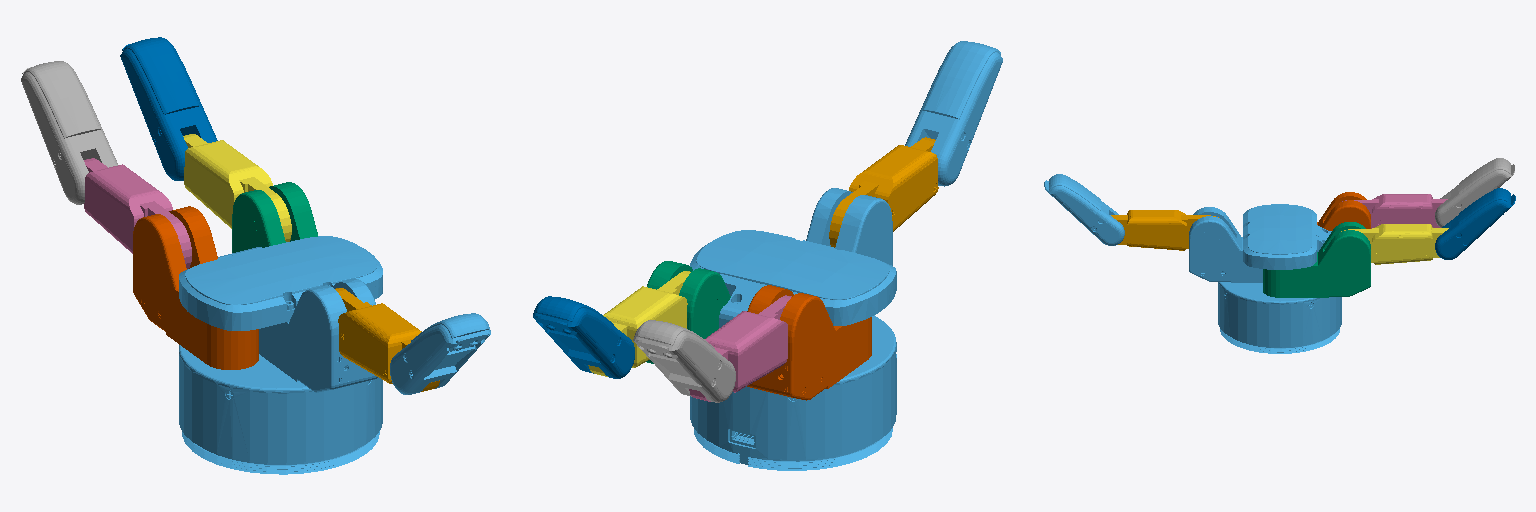
The robot description file, URDF, robot "bhand_model":
<?xml version='1.0' encoding='utf-8'?>
<robot name="bhand_model">
  <link name="hand_root" />
  <joint name="hand_root_joint" type="fixed">
    <origin rpy="0 0 0" xyz="0 0 0" />
    <parent link="hand_root" />
    <child link="base_link" />
  </joint>
  <mujoco>
    <compiler balanceinertia="true" discardvisual="false" fusestatic="false" inertiafromgeom="false" />
  </mujoco>
  <link name="base_link">
    <inertial>
      <origin xyz="-1.53444878605399E-05 -0.00277693660903533 0.0352882290973172" rpy="0 0 0" />
      <mass value="0.377966381303299" />
      <inertia ixx="0.000427326373018601" ixy="2.6443337984506E-07" ixz="-2.02908063714989E-07" iyy="0.000361316175967098" iyz="-3.0792687327603E-05" izz="0.000376798128588446" />
    </inertial>
    <visual name="base_link_base_link_visual">
      <origin xyz="0 0 0" rpy="0 0 0" />
      <geometry>
        <mesh filename="meshes/visual/base_link.obj" />
      </geometry>
    </visual>
    <collision>
      <origin xyz="0 0 0" rpy="0 0 0" />
      <geometry>
        <mesh filename="meshes/collision/base_link_cylinder_collision000.obj" />
      </geometry>
    </collision>
    <collision>
      <origin xyz="0 -0.011 0.054" rpy="0 0 0" />
      <geometry>
        <box size="0.026 0.108 0.026" />
      </geometry>
    </collision>
    <collision>
      <origin xyz="0 0 0.072" rpy="0 0 0" />
      <geometry>
        <box size="0.076 0.046 0.014" />
      </geometry>
    </collision>
    <collision>
      <origin xyz="0 0.032 0.068" rpy="-0.39 0 0" />
      <geometry>
        <box size="0.026 0.02 0.01" />
      </geometry>
    </collision>
    <collision>
      <origin xyz="0 -0.035 0.07" rpy="-1.03 0 0" />
      <geometry>
        <box size="0.026 0.02 0.01" />
      </geometry>
    </collision>
  </link>
  <link name="finger_1_prox_link">
    <inertial>
      <origin xyz="-0.288648917008988 9.98379746692153E-04 0.171253477569802" rpy="0 0 0" />
      <mass value="56143.0626955765E-5" />
      <inertia ixx="10.4484040652085E-5" ixy="-0.117861448219975E-5" ixz="-5.31613760585343E-5" iyy="33.9552353012776E-5" iyz="0.0780041192837706E-5" izz="29.3669090518615E-5" />
    </inertial>
    <visual name="finger_1_prox_link_prox_link_visual">
      <origin xyz="0 0 0" rpy="0 0 0" />
      <geometry>
        <mesh filename="meshes/visual/prox_link.obj" />
      </geometry>
    </visual>
    <collision>
      <origin xyz="0 0 0" rpy="0 0 0" />
      <geometry>
        <mesh filename="meshes/collision/prox_link_cylinder_collision000.obj" />
      </geometry>
    </collision>
    <collision>
      <origin xyz="-0.029 0 0.012" rpy="0 0 0" />
      <geometry>
        <box size="0.07 0.024 0.026" />
      </geometry>
    </collision>
    <collision>
      <origin xyz="-0.036 0 0.03" rpy="0 1.029 0" />
      <geometry>
        <box size="0.02 0.026 0.01" />
      </geometry>
    </collision>
  </link>
  <joint name="finger_1_prox_joint" type="revolute">
    <origin xyz="0.025 0 0.0415" rpy="0 2.7051E-17 -1.5708" />
    <parent link="base_link" />
    <child link="finger_1_prox_link" />
    <axis xyz="0 0 1" />
    <limit lower="-3.14" upper="0" effort="0" velocity="10" />
  </joint>
  <link name="finger_1_med_liink">
    <inertial>
      <origin xyz="-0.030918176135544 0.0019693024932544 0.000743369842666108" rpy="0 0 0" />
      <mass value="31321.1214212939E-5" />
      <inertia ixx="2.18512832127284E-5" ixy="-0.844484268309696E-5" ixz="0.0135401272401385E-5" iyy="17.3596441998536E-5" iyz="-0.001126692167519E-5" izz="17.7656644395659E-5" />
    </inertial>
    <visual name="finger_1_med_liink_med_link_visual">
      <origin xyz="0 0 0" rpy="0 0 0" />
      <geometry>
        <mesh filename="meshes/visual/med_link.obj" />
      </geometry>
    </visual>
    <collision>
      <origin xyz="-0.04 0.003 0.001" rpy="0 0 0" />
      <geometry>
        <box size="0.036 0.024 0.018" />
      </geometry>
    </collision>
    <collision>
      <origin xyz="-0.006 0.001 0.001" rpy="0 0 0" />
      <geometry>
        <box size="0.032 0.022 0.01" />
      </geometry>
    </collision>
    <collision>
      <origin xyz="-0.068 0.003 0.001" rpy="0 0 0" />
      <geometry>
        <box size="0.02 0.022 0.01" />
      </geometry>
    </collision>
    <collision>
      <origin xyz="-0.019 0.001 0.001" rpy="0 0 0" />
      <geometry>
        <box size="0.008 0.022 0.018" />
      </geometry>
    </collision>
  </link>
  <joint name="finger_1_med_joint" type="revolute">
    <origin xyz="-0.05 0 0.0339" rpy="1.5708 -8.8281E-17 0" />
    <parent link="finger_1_prox_link" />
    <child link="finger_1_med_liink" />
    <axis xyz="0 0 1" />
    <limit lower="-2.44" upper="0" effort="0" velocity="10" />
  </joint>
  <link name="finger_1_dist_link">
    <inertial>
      <origin xyz="-0.018331495851456 0.017563370050582 0.000497127783315291" rpy="0 0 0" />
      <mass value="19342.3312257343E-5" />
      <inertia ixx="3.67466110522623E-5" ixy="-2.57800680786605E-5" ixz="-0.0345727635031181E-5" iyy="4.08727012680705E-5" iyz="0.0329223427372985E-5" izz="5.99395386650428E-5" />
    </inertial>
    <visual name="finger_1_dist_link_dist_link_visual">
      <origin xyz="0 0 0" rpy="0 0 0" />
      <geometry>
        <mesh filename="meshes/visual/dist_link.obj" />
      </geometry>
    </visual>
    <collision>
      <origin xyz="-0.022 0.023 0" rpy="0 0 0.8988" />
      <geometry>
        <box size="0.014 0.038 0.02" />
      </geometry>
    </collision>
    <collision>
      <origin xyz="-0.002 0.002 0" rpy="0 0 0.7766" />
      <geometry>
        <box size="0.018 0.022 0.02" />
      </geometry>
    </collision>
    <collision>
      <origin xyz="-0.038 0.034 0" rpy="0 0 1.614" />
      <geometry>
        <box size="0.012 0.012 0.02" />
      </geometry>
    </collision>
  </link>
  <joint name="finger_1_dist_joint" type="revolute">
    <origin xyz="-0.069936 0.003 0" rpy="1.6787E-18 -3.6382E-15 -6.1073E-33" />
    <parent link="finger_1_med_liink" />
    <child link="finger_1_dist_link" />
    <axis xyz="0 0 1" />
    <limit lower="-0.785" upper="0" effort="0" velocity="10" />
  </joint>
  <link name="finger_2_prox_link">
    <inertial>
      <origin xyz="-0.288648917008987 9.98379746692118E-04 0.171253477569802" rpy="0 0 0" />
      <mass value="56143.0626955765E-5" />
      <inertia ixx="10.4484040652085E-5" ixy="-0.117861448219975E-5" ixz="-5.31613760585343E-5" iyy="33.9552353012776E-5" iyz="0.0780041192837701E-5" izz="29.3669090518615E-5" />
    </inertial>
    <visual name="finger_2_prox_link_prox_link_visual">
      <origin xyz="0 0 0" rpy="0 0 0" />
      <geometry>
        <mesh filename="meshes/visual/prox_link.obj" />
      </geometry>
    </visual>
    <collision>
      <origin xyz="0 0 0" rpy="0 0 0" />
      <geometry>
        <mesh filename="meshes/collision/prox_link_cylinder_collision000.obj" />
      </geometry>
    </collision>
    <collision>
      <origin xyz="-0.029 0 0.012" rpy="0 0 0" />
      <geometry>
        <box size="0.07 0.024 0.026" />
      </geometry>
    </collision>
    <collision>
      <origin xyz="-0.036 0 0.03" rpy="0 1.029 0" />
      <geometry>
        <box size="0.02 0.026 0.01" />
      </geometry>
    </collision>
  </link>
  <joint name="finger_2_prox_joint" type="revolute">
    <origin xyz="-0.025 0 0.0415" rpy="0 2.7051E-17 -1.5708" />
    <parent link="base_link" />
    <child link="finger_2_prox_link" />
    <axis xyz="0 0 1" />
    <limit lower="0" upper="3.14" effort="0" velocity="10" />
  </joint>
  <link name="finger_2_med_link">
    <inertial>
      <origin xyz="-0.0309061378225848 0.00214997948654991 0.000743369814045599" rpy="0 0 0" />
      <mass value="31321.1215499126E-5" />
      <inertia ixx="2.19551825824831E-5" ixy="-0.933117181988174E-5" ixz="0.0135333166873642E-5" iyy="17.3492542935561E-5" iyz="-0.00120585854514789E-5" izz="17.7656644132238E-5" />
    </inertial>
    <visual name="finger_2_med_link_med_link_visual">
      <origin xyz="0 0 0" rpy="0 0 0" />
      <geometry>
        <mesh filename="meshes/visual/med_link.obj" />
      </geometry>
    </visual>
    <collision>
      <origin xyz="-0.04 0.003 0.001" rpy="0 0 0" />
      <geometry>
        <box size="0.036 0.024 0.018" />
      </geometry>
    </collision>
    <collision>
      <origin xyz="-0.006 0.001 0.001" rpy="0 0 0" />
      <geometry>
        <box size="0.032 0.022 0.01" />
      </geometry>
    </collision>
    <collision>
      <origin xyz="-0.068 0.003 0.001" rpy="0 0 0" />
      <geometry>
        <box size="0.02 0.022 0.01" />
      </geometry>
    </collision>
    <collision>
      <origin xyz="-0.019 0.001 0.001" rpy="0 0 0" />
      <geometry>
        <box size="0.008 0.022 0.018" />
      </geometry>
    </collision>
  </link>
  <joint name="finger_2_med_joint" type="revolute">
    <origin xyz="-0.05 0 0.0339" rpy="1.5708 -8.8281E-17 0" />
    <parent link="finger_2_prox_link" />
    <child link="finger_2_med_link" />
    <axis xyz="0 0 1" />
    <limit lower="-2.44" upper="0" effort="0" velocity="10" />
  </joint>
  <link name="finger_2_dist_link">
    <inertial>
      <origin xyz="-0.0181940669984822 0.017705695005231 0.000497127783261171" rpy="0 0 0" />
      <mass value="19342.3313295693E-5" />
      <inertia ixx="3.71486604025429E-5" ixy="-2.58090906930852E-5" ixz="-0.0343151446338957E-5" iyy="4.04706522522361E-5" iyz="0.0331907761165059E-5" izz="5.99395390717116E-5" />
    </inertial>
    <visual name="finger_2_dist_link_dist_link_visual">
      <origin xyz="0 0 0" rpy="0 0 0" />
      <geometry>
        <mesh filename="meshes/visual/dist_link.obj" />
      </geometry>
    </visual>
    <collision>
      <origin xyz="-0.022 0.023 0" rpy="0 0 0.8988" />
      <geometry>
        <box size="0.014 0.038 0.02" />
      </geometry>
    </collision>
    <collision>
      <origin xyz="-0.002 0.002 0" rpy="0 0 0.7766" />
      <geometry>
        <box size="0.018 0.022 0.02" />
      </geometry>
    </collision>
    <collision>
      <origin xyz="-0.038 0.034 0" rpy="0 0 1.614" />
      <geometry>
        <box size="0.012 0.012 0.02" />
      </geometry>
    </collision>
  </link>
  <joint name="finger_2_dist_joint" type="revolute">
    <origin xyz="-0.069917 0.0034087 0" rpy="-3.1382E-17 -2.3229E-16 0" />
    <parent link="finger_2_med_link" />
    <child link="finger_2_dist_link" />
    <axis xyz="0 0 1" />
    <limit lower="-0.785" upper="0" effort="0" velocity="10" />
  </joint>
  <link name="finger_3_med_link">
    <inertial>
      <origin xyz="-0.0309181761355441 0.00196930249325443 0.000743369842666415" rpy="0 0 0" />
      <mass value="31321.121421294E-5" />
      <inertia ixx="2.18512832127284E-5" ixy="-0.844484268309696E-5" ixz="0.0135401272400822E-5" iyy="17.3596441998537E-5" iyz="-0.0011266921675151E-5" izz="17.7656644395659E-5" />
    </inertial>
    <visual name="finger_3_med_link_med_link_visual">
      <origin xyz="0 0 0" rpy="0 0 0" />
      <geometry>
        <mesh filename="meshes/visual/med_link.obj" />
      </geometry>
    </visual>
    <collision>
      <origin xyz="-0.04 0.003 0.001" rpy="0 0 0" />
      <geometry>
        <box size="0.036 0.024 0.018" />
      </geometry>
    </collision>
    <collision>
      <origin xyz="-0.006 0.001 0.001" rpy="0 0 0" />
      <geometry>
        <box size="0.032 0.022 0.01" />
      </geometry>
    </collision>
    <collision>
      <origin xyz="-0.068 0.003 0.001" rpy="0 0 0" />
      <geometry>
        <box size="0.02 0.022 0.01" />
      </geometry>
    </collision>
    <collision>
      <origin xyz="-0.019 0.001 0.001" rpy="0 0 0" />
      <geometry>
        <box size="0.008 0.022 0.018" />
      </geometry>
    </collision>
  </link>
  <joint name="finger_3_med_joint" type="revolute">
    <origin xyz="0 -0.05 0.0754" rpy="1.5708 6.123E-17 1.5708" />
    <parent link="base_link" />
    <child link="finger_3_med_link" />
    <axis xyz="0 0 1" />
    <limit lower="-2.44" upper="0" effort="0" velocity="10" />
  </joint>
  <link name="finger_3_dist_link">
    <inertial>
      <origin xyz="-0.0183314958518909 0.0175633700501297 0.000497127783323787" rpy="0 0 0" />
      <mass value="19342.3312257343E-5" />
      <inertia ixx="3.67466110509902E-5" ixy="-2.57800680785588E-5" ixz="-0.0345727635040649E-5" iyy="4.08727012693427E-5" iyz="0.0329223427365976E-5" izz="5.99395386650428E-5" />
    </inertial>
    <visual name="finger_3_dist_link_dist_link_visual">
      <origin xyz="0 0 0" rpy="0 0 0" />
      <geometry>
        <mesh filename="meshes/visual/dist_link.obj" />
      </geometry>
    </visual>
    <collision>
      <origin xyz="-0.022 0.023 0" rpy="0 0 0.8988" />
      <geometry>
        <box size="0.014 0.038 0.02" />
      </geometry>
    </collision>
    <collision>
      <origin xyz="-0.002 0.002 0" rpy="0 0 0.7766" />
      <geometry>
        <box size="0.018 0.022 0.02" />
      </geometry>
    </collision>
    <collision>
      <origin xyz="-0.038 0.034 0" rpy="0 0 1.614" />
      <geometry>
        <box size="0.012 0.012 0.02" />
      </geometry>
    </collision>
  </link>
  <joint name="finger_3_dist_joint" type="revolute">
    <origin xyz="-0.069936 0.003 0" rpy="6.0427E-17 -6.7283E-18 -4.0657E-34" />
    <parent link="finger_3_med_link" />
    <child link="finger_3_dist_link" />
    <axis xyz="0 0 1" />
    <limit lower="-0.785" upper="0" effort="0" velocity="10" />
  </joint>
</robot>

--- Facts derived from the render (not from the file) ---
3 views of the same robot in one strip: view 1: azimuth 30°, elevation 25°; view 2: azimuth 150°, elevation 25°; view 3: azimuth 270°, elevation 25° (orthographic).
Model bhand_model with 10 links and 9 joints (8 revolute, 1 fixed), rooted at hand_root, posed all joints at 0.
Links seen in each view (by area): view 1: base_link, finger_2_prox_link, finger_2_dist_link, finger_1_dist_link, finger_2_med_link, finger_1_med_liink, finger_3_dist_link, finger_3_med_link, finger_1_prox_link; view 2: base_link, finger_2_prox_link, finger_3_dist_link, finger_3_med_link, finger_1_dist_link, finger_2_dist_link, finger_2_med_link, finger_1_med_liink, finger_1_prox_link; view 3: base_link, finger_1_prox_link, finger_3_med_link, finger_1_med_liink, finger_1_dist_link, finger_3_dist_link, finger_2_dist_link, finger_2_med_link, finger_2_prox_link.
Link boxes in pixels (x1=…): base_link: x1=179, y1=236, x2=382, y2=474; finger_2_prox_link: x1=133, y1=206, x2=258, y2=369; finger_2_dist_link: x1=21, y1=61, x2=117, y2=204; finger_1_dist_link: x1=120, y1=37, x2=217, y2=180; finger_2_med_link: x1=84, y1=158, x2=191, y2=268; finger_1_med_liink: x1=183, y1=134, x2=291, y2=241; finger_3_dist_link: x1=390, y1=313, x2=490, y2=394; finger_3_med_link: x1=335, y1=288, x2=439, y2=391; finger_1_prox_link: x1=232, y1=182, x2=317, y2=252; base_link: x1=690, y1=188, x2=896, y2=470; finger_2_prox_link: x1=747, y1=285, x2=871, y2=400; finger_3_dist_link: x1=905, y1=41, x2=1002, y2=186; finger_3_med_link: x1=829, y1=137, x2=938, y2=247; finger_1_dist_link: x1=533, y1=296, x2=634, y2=378; finger_2_dist_link: x1=633, y1=320, x2=735, y2=402; finger_2_med_link: x1=689, y1=295, x2=791, y2=401; finger_1_med_liink: x1=588, y1=271, x2=690, y2=376; finger_1_prox_link: x1=646, y1=261, x2=730, y2=363; base_link: x1=1189, y1=204, x2=1341, y2=353; finger_1_prox_link: x1=1263, y1=222, x2=1370, y2=297; finger_3_med_link: x1=1111, y1=210, x2=1218, y2=250; finger_1_med_liink: x1=1341, y1=224, x2=1448, y2=264; finger_1_dist_link: x1=1435, y1=188, x2=1515, y2=259; finger_3_dist_link: x1=1044, y1=174, x2=1124, y2=245; finger_2_dist_link: x1=1435, y1=158, x2=1514, y2=227; finger_2_med_link: x1=1342, y1=194, x2=1447, y2=228; finger_2_prox_link: x1=1317, y1=192, x2=1370, y2=230.
Size in the robot's own frame: 0.089 by 0.3353 by 0.1191 metres.
Meshes: 4 distinct files referenced, 9 mesh visuals loaded (4 OBJ).
